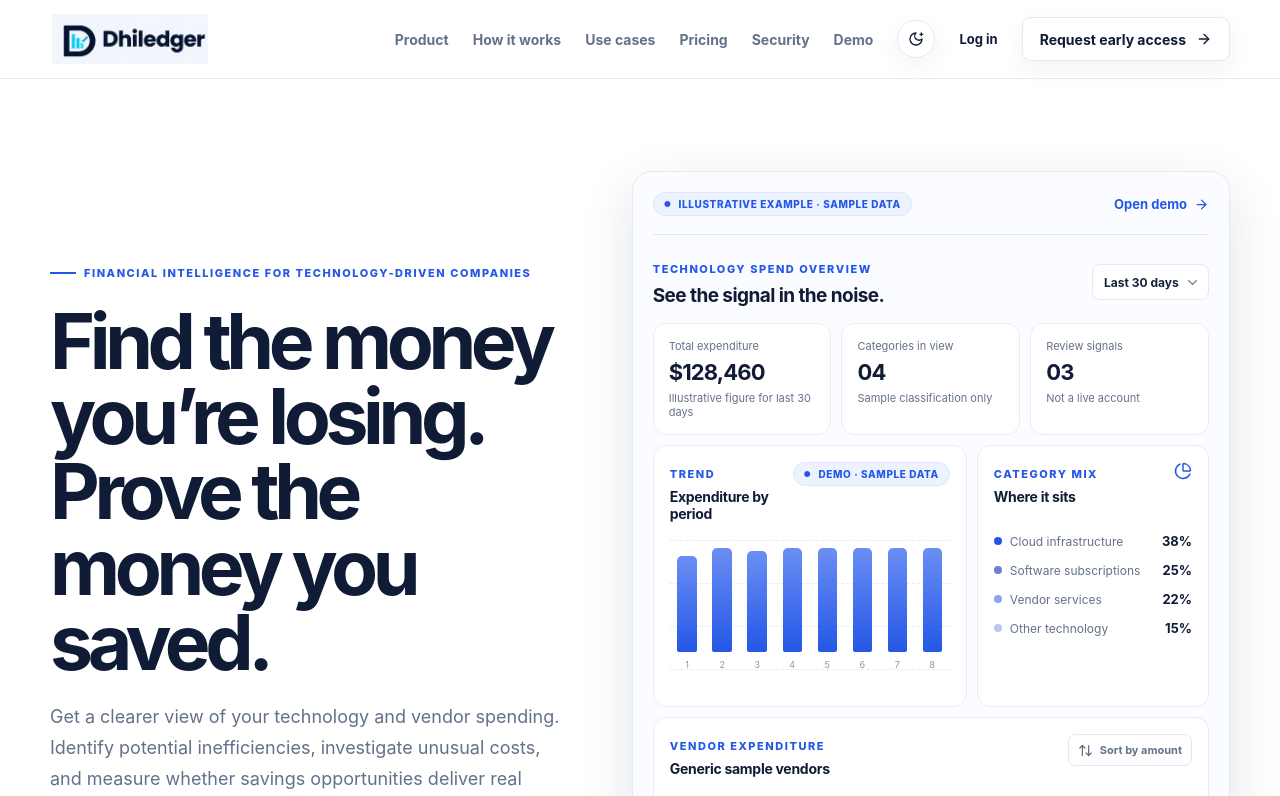
Test case: Dhiledger routes › lets users switch between light and dark mode
Click the button named "switch to dark mode": (916, 39) [897,20,935,58]
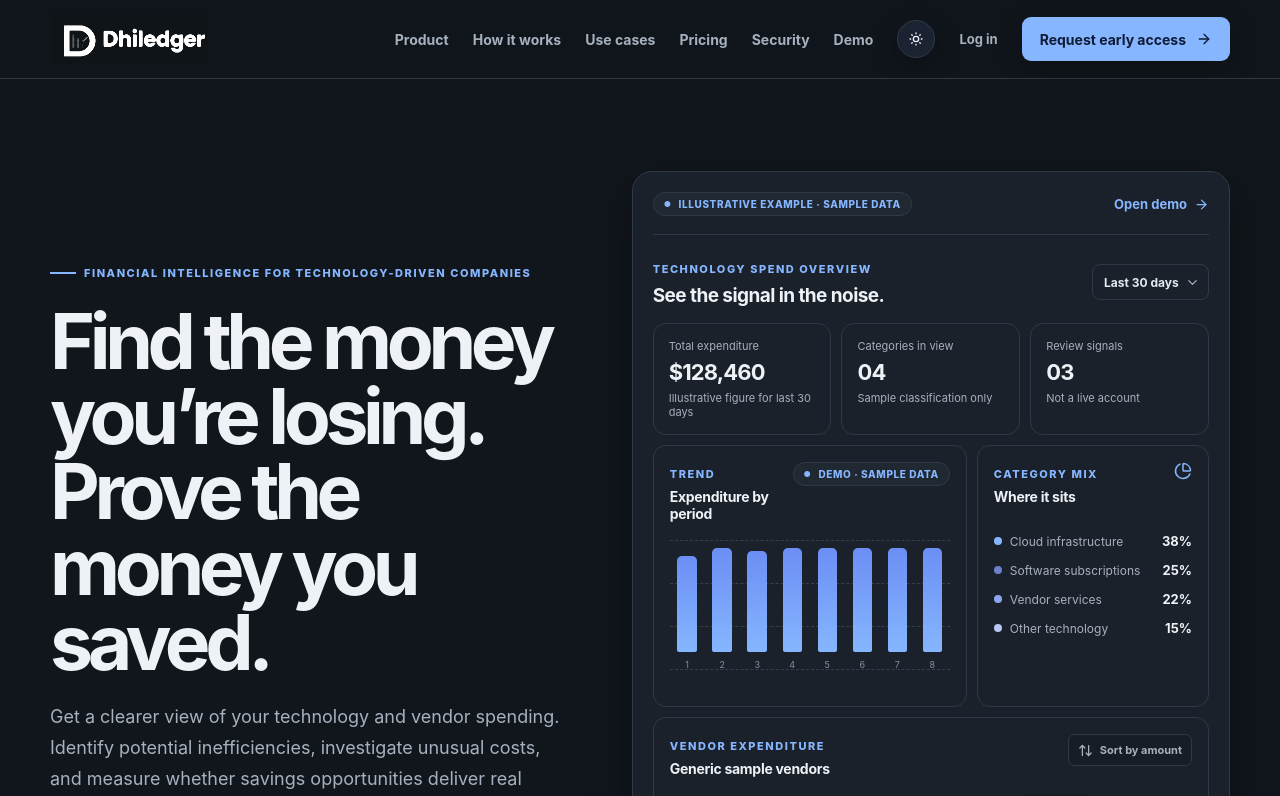
Result: the button named "switch to light mode" is shown at [897,20,935,58]
